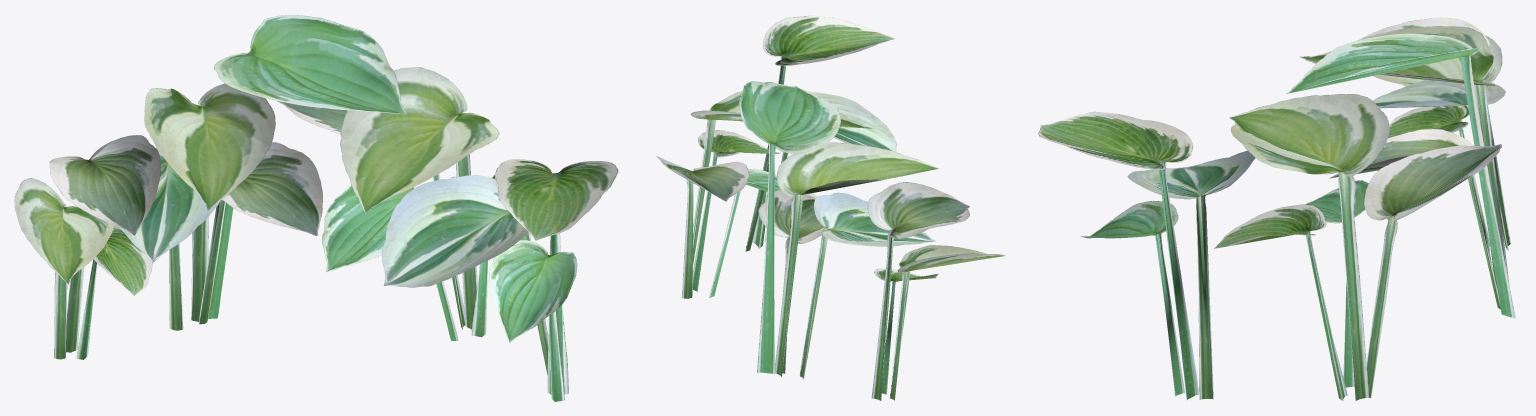
File: plant_small_wg_00_c-corner03.fbx
3 views of the same model, side by side, from view 1: azimuth 30°, elevation 25°; view 2: azimuth 150°, elevation 25°; view 3: azimuth 270°, elevation 25° (orthographic). The views are drawn at different scales.
Parts seen in each view (by area): view 1: plant_small_wg_00_c-corner03; view 2: plant_small_wg_00_c-corner03; view 3: plant_small_wg_00_c-corner03.
Boxes of the visible parts, left/top/right/bottom form: plant_small_wg_00_c-corner03: left=14, top=15, right=618, bottom=401; plant_small_wg_00_c-corner03: left=656, top=15, right=1005, bottom=400; plant_small_wg_00_c-corner03: left=1038, top=17, right=1515, bottom=400.
Size of the model in its own units: 67.76 by 44.2 by 66.02.
Materials: 1 (1 with a texture image).
